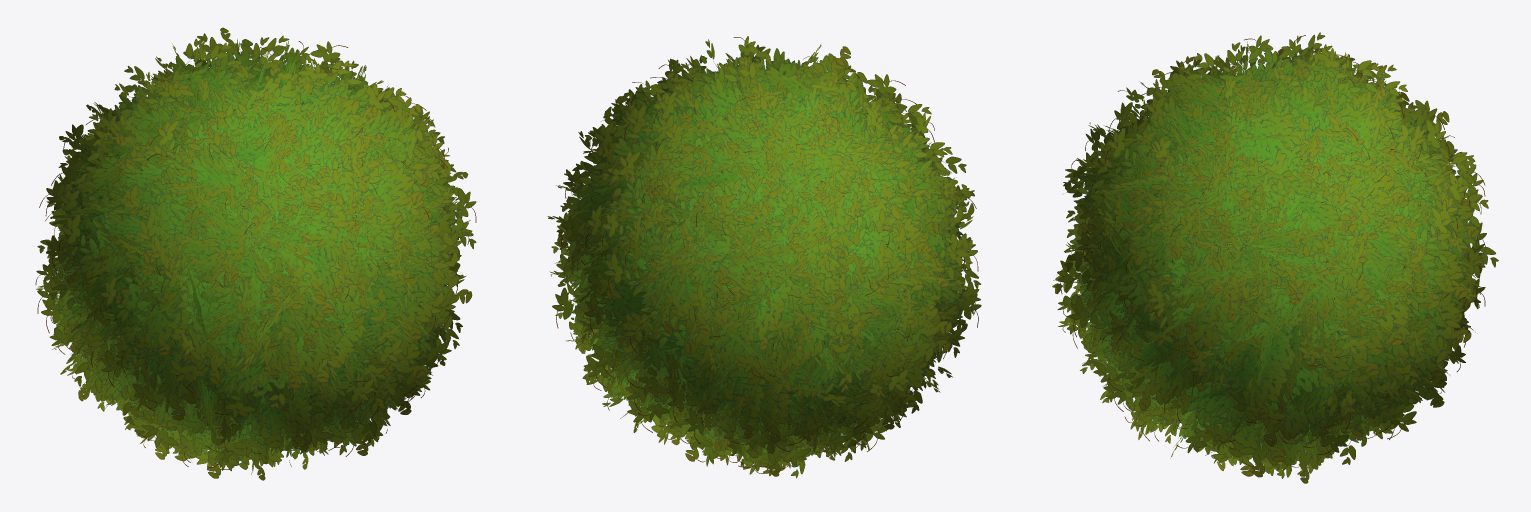
Rendered from SM_Bush04.fbx.
3 views of the same model, side by side, from view 1: azimuth 30°, elevation 25°; view 2: azimuth 150°, elevation 25°; view 3: azimuth 270°, elevation 25° (orthographic).
Parts seen in each view (by area): view 1: SM_Bush04_LOD0; view 2: SM_Bush04_LOD0; view 3: SM_Bush04_LOD0.
Boxes of the visible parts, left/top/right/bottom form: SM_Bush04_LOD0: left=35, top=27, right=476, bottom=480; SM_Bush04_LOD0: left=547, top=36, right=981, bottom=478; SM_Bush04_LOD0: left=1052, top=32, right=1498, bottom=483.
Bounding box in the file's own units: 1324 × 1323 × 1319.
1 material, 1 textured.
